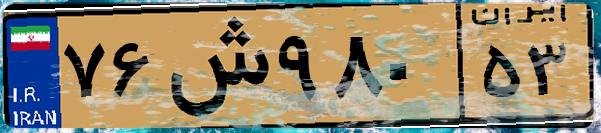0: (385, 28, 445, 110)
3: (525, 38, 570, 115)
5: (475, 38, 525, 113)
6: (110, 28, 158, 98)
7: (57, 26, 110, 100)
8: (330, 28, 385, 110)
9: (270, 28, 330, 110)
ش: (158, 12, 270, 120)
